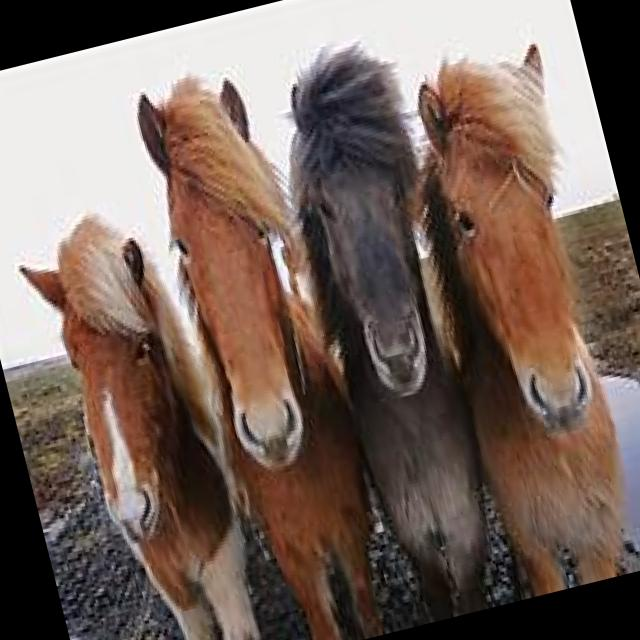animal: (258, 28, 532, 630), (126, 58, 397, 640), (385, 35, 640, 600), (14, 194, 275, 640)
